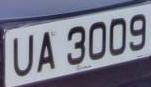0: (86, 15, 110, 65), (108, 12, 129, 61)
3: (65, 20, 88, 70)
9: (128, 11, 149, 57)
A: (36, 26, 58, 78)
U: (12, 30, 36, 81)
